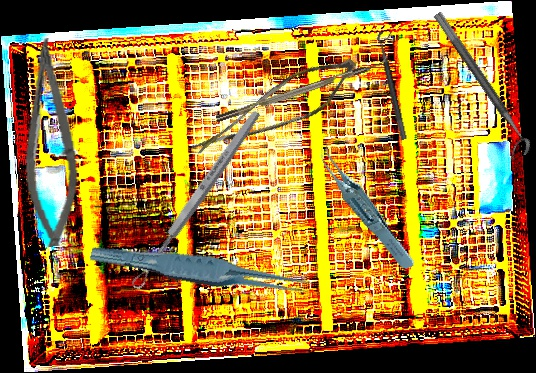Chopper: (212, 50, 392, 123)
Fixation Ring: (421, 10, 535, 163), (375, 29, 417, 141)
Micro Scissor: (189, 31, 364, 191), (10, 36, 86, 249)
Surgical Spoon: (128, 107, 264, 292)
Tissue Forceps: (89, 230, 316, 312), (316, 128, 416, 283)
